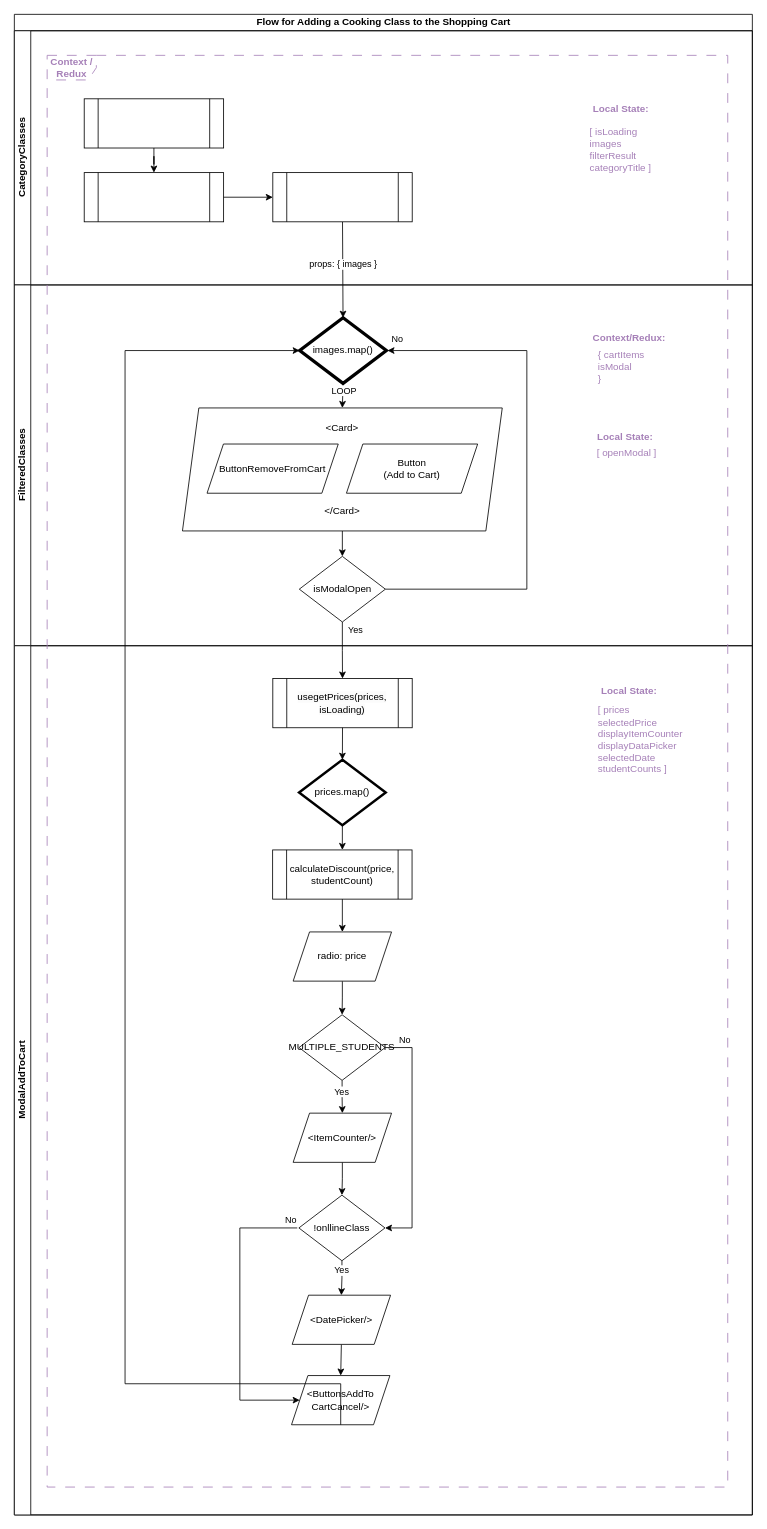
The diagram is 767 pixels wide and 1529 high, and some of its shapes have lost their labels. Each missing label, with the centre of its shape:
"useAddUrl([images])" goes at point 342,197.
"useEffect([filterResults])" goes at point 153,197.
"useSetToken([])" goes at point 153,123.
